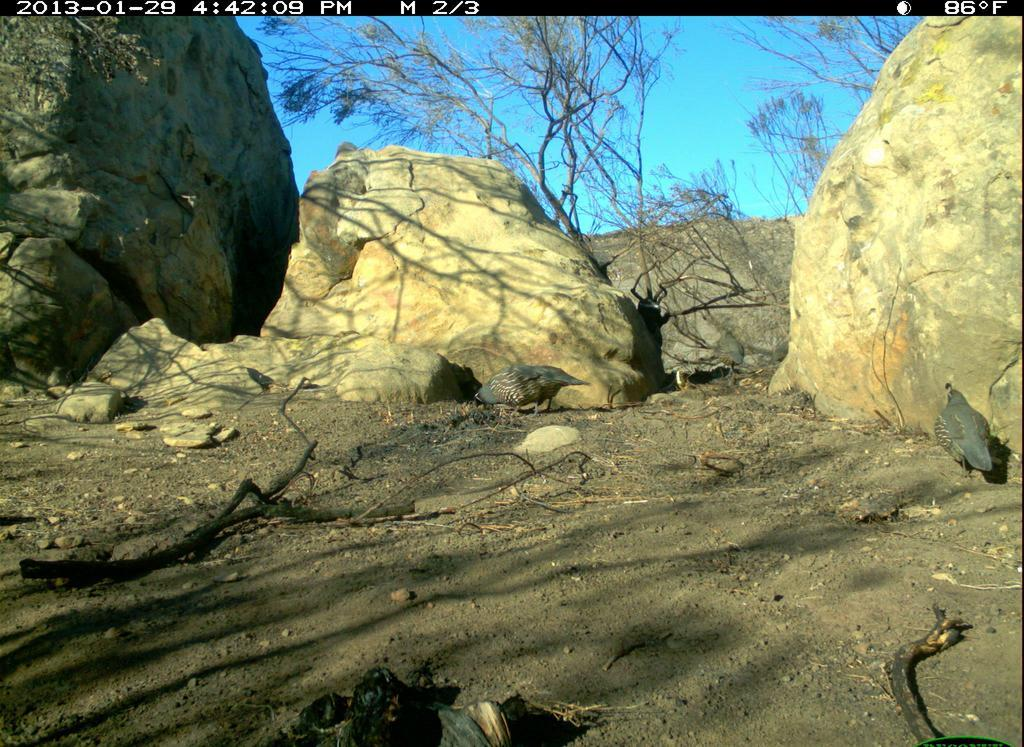bird: (469, 359, 594, 423), (933, 381, 1000, 481), (706, 325, 751, 385)
